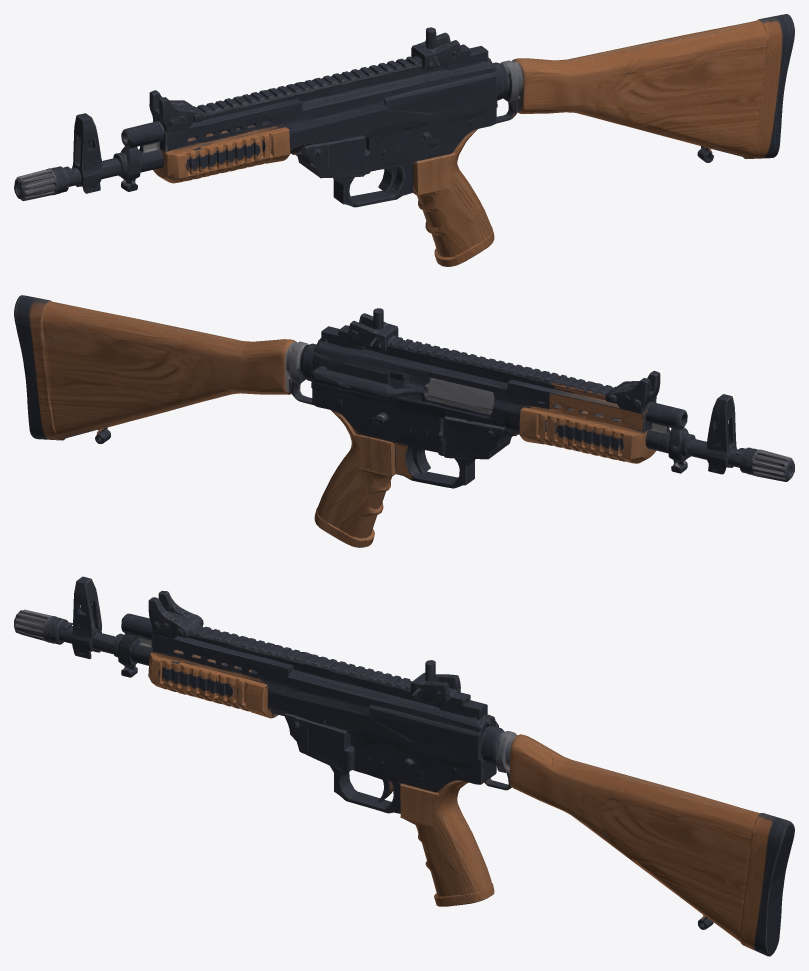
Rendered from rifle.glb.
3 renders of one model, top to bottom at view 1: azimuth 30°, elevation 25°; view 2: azimuth 150°, elevation 25°; view 3: azimuth 330°, elevation 25°, orthographic.
Size of the model in its own units: 1.9 by 0.5597 by 0.147.
1 material, 1 textured.
